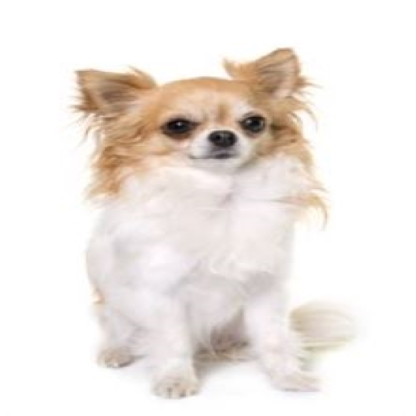chihuahua: (74, 45, 364, 398)
